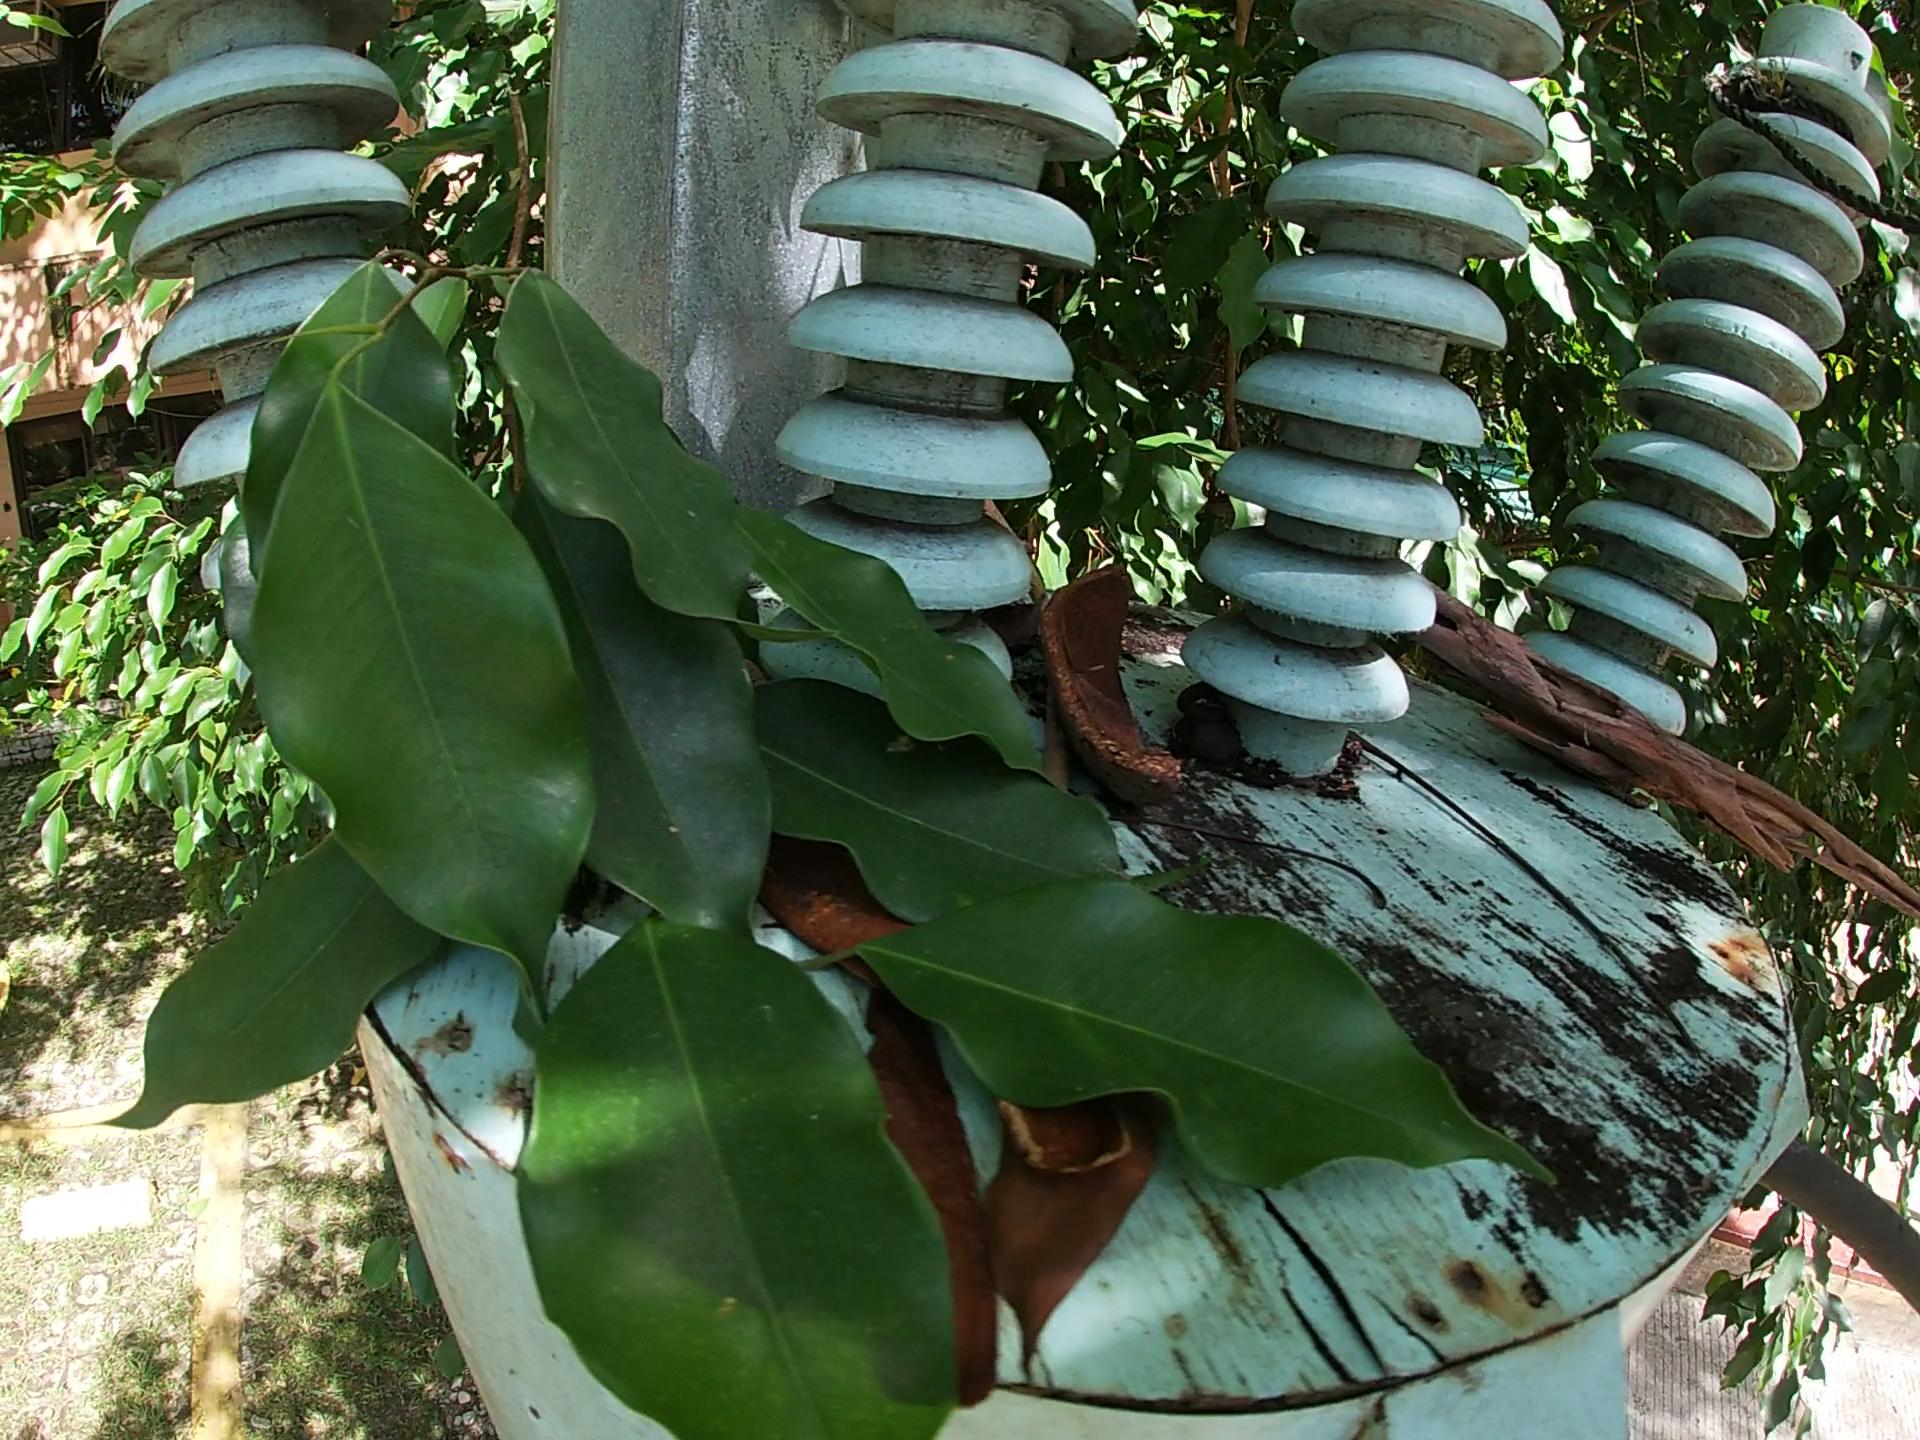branch with leaves: (91, 67, 1596, 1440)
leaf: (760, 836, 919, 989), (1008, 1162, 1092, 1363)
mahogany fruit: (859, 1003, 1013, 1419), (1048, 561, 1211, 805), (1016, 1077, 1141, 1175)
tree branch: (1401, 582, 1920, 935), (1352, 712, 1751, 1057), (1123, 800, 1411, 908), (990, 493, 1051, 596)
